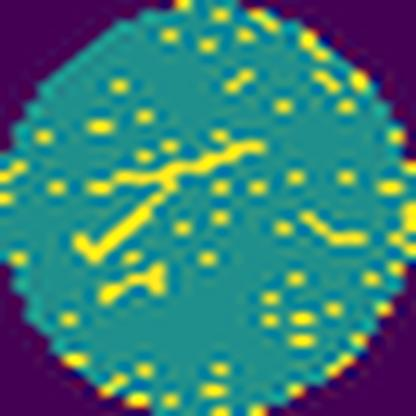Scratch: (64, 124, 270, 269), (98, 256, 172, 312), (297, 208, 375, 254)
